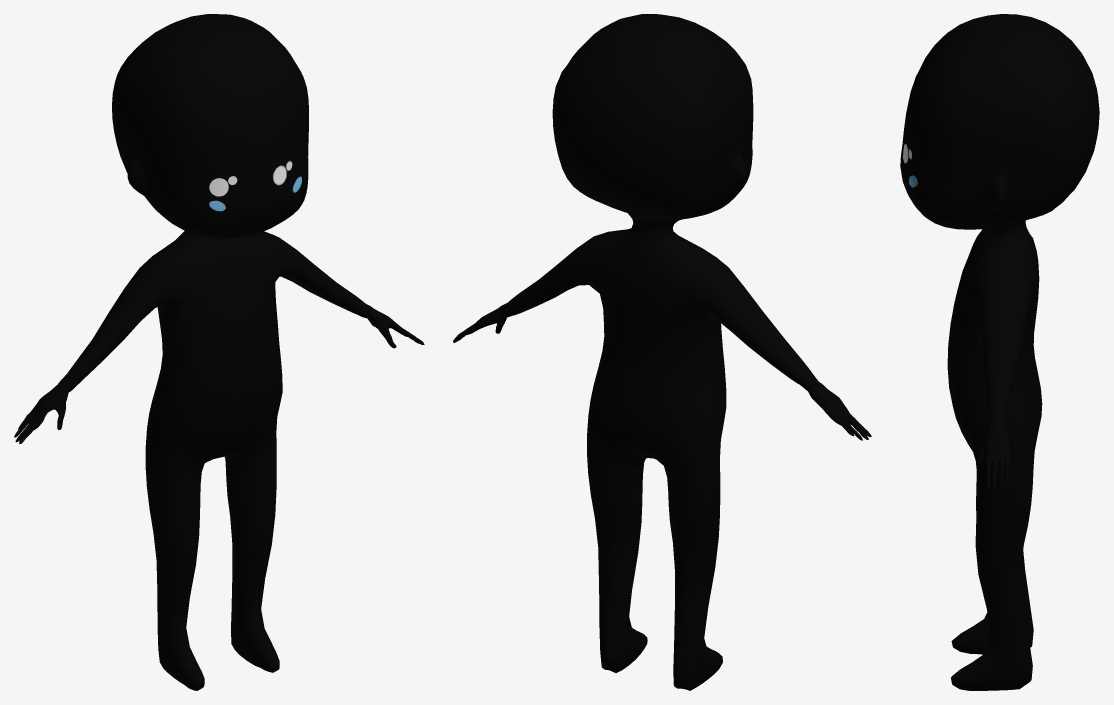
3 views of the same model, side by side, from view 1: azimuth 30°, elevation 25°; view 2: azimuth 150°, elevation 25°; view 3: azimuth 270°, elevation 25° (orthographic).
Parts seen in each view (by area): view 1: BODY_0; view 2: BODY_0; view 3: BODY_0.
Part boxes in pixels (x1,y1,x2,y2): BODY_0: (14,14,424,690); BODY_0: (453,14,871,690); BODY_0: (900,14,1099,690).
Bounding box in the file's own units: 14.06 × 21.28 × 5.93.
1 material, 1 textured.
